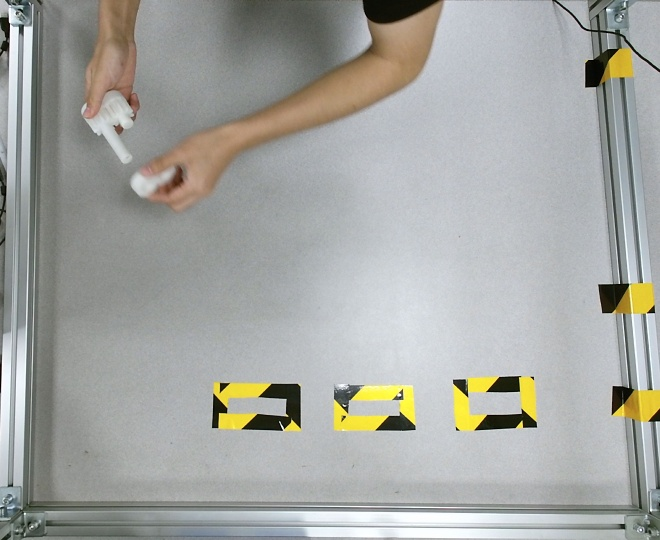stage_3: (81, 90, 134, 163)
